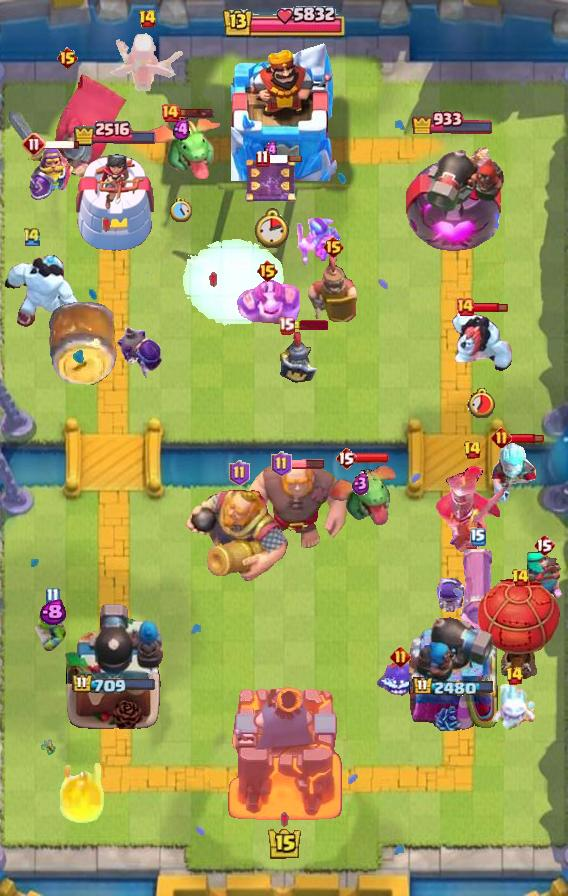balloon: (242, 460, 350, 552)
bat: (490, 683, 538, 731)
battle-healer: (455, 549, 501, 653)
cannon-cart: (478, 577, 562, 679)
clock: (221, 3, 347, 43)
dirt: (47, 298, 119, 388)
earthquake: (308, 250, 358, 322)
electro-spirit: (38, 599, 65, 626), (352, 473, 370, 496), (174, 118, 191, 141), (263, 141, 280, 159)
electro-wizard: (136, 117, 226, 183), (324, 463, 398, 529)
elixir: (254, 208, 289, 248), (467, 387, 497, 418), (170, 198, 192, 222)
elixir-golem-small: (234, 276, 300, 330)
emote: (177, 107, 214, 119), (472, 301, 508, 313), (354, 452, 390, 464), (289, 458, 325, 470), (508, 432, 543, 444), (43, 138, 81, 149), (267, 154, 303, 164), (292, 320, 328, 330)
firecracker-evolution: (27, 147, 76, 201)
giant-skeleton: (185, 488, 293, 584)
giant-snowball: (294, 217, 342, 269)
goblin: (437, 578, 468, 618)
goblin-ball: (117, 324, 163, 382)
ice-spirit-evolution-symbol: (244, 155, 298, 205)
king-tower: (223, 680, 345, 826), (231, 43, 337, 181)
mega-knight: (181, 237, 287, 330)
mortar: (488, 436, 540, 504)
poison: (103, 26, 191, 100)
princess: (270, 329, 320, 387)
queen-tower: (71, 144, 157, 255)
rage: (0, 246, 80, 328), (449, 310, 515, 374)
selected: (71, 119, 156, 147), (411, 108, 495, 134), (71, 672, 157, 696), (413, 676, 496, 698)
spear-goblin: (376, 661, 424, 701)
text: (22, 132, 46, 156), (256, 259, 280, 283), (56, 46, 79, 70), (322, 235, 345, 259), (272, 451, 293, 477), (229, 460, 250, 486), (335, 446, 357, 470), (533, 533, 555, 557), (389, 645, 410, 667), (492, 427, 513, 448), (22, 225, 42, 247), (160, 103, 180, 123), (455, 297, 475, 317), (462, 440, 482, 460), (510, 568, 530, 588), (138, 9, 157, 29), (505, 666, 524, 686), (277, 316, 295, 335), (470, 528, 486, 546), (255, 148, 270, 167), (44, 587, 59, 606)
tower-bar: (64, 601, 164, 731), (402, 136, 504, 256), (407, 611, 499, 731)
valkyrie: (52, 757, 108, 827)
wall-breaker-evolution: (6, 71, 129, 185), (434, 464, 510, 552)
witch: (524, 550, 564, 602)
zap: (32, 608, 72, 652)
